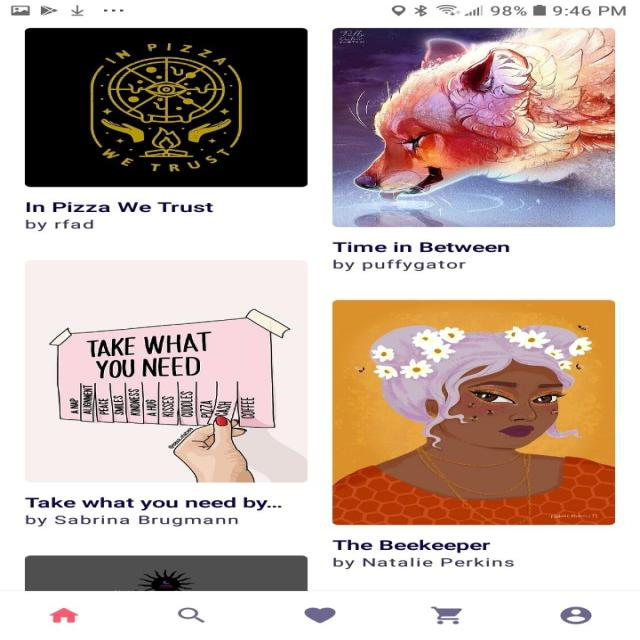Icon: (559, 606, 591, 625), (430, 606, 462, 624), (303, 607, 336, 623), (49, 608, 79, 622), (177, 607, 204, 622)
Image: (330, 299, 614, 525), (25, 259, 308, 482), (332, 28, 616, 227), (25, 27, 308, 187), (24, 555, 308, 591)
Text: (24, 496, 282, 511), (25, 514, 238, 527), (332, 556, 514, 569), (26, 200, 214, 212), (332, 539, 489, 553), (332, 242, 509, 252), (332, 259, 464, 271), (24, 219, 94, 231)
